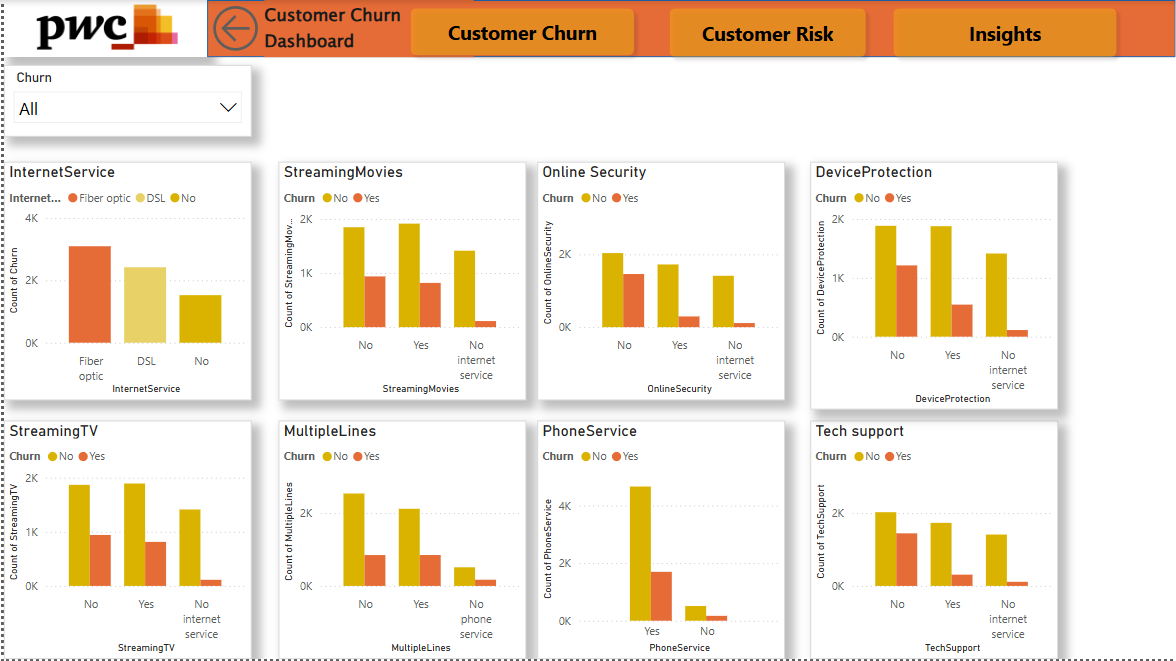

The page's visual inventory and layout, read from the dashboard file:
{"tool":"powerbi","page":{"name":"Services","canvas":[1280,720],"ordinal":3},"visuals":[{"type":"image","box":[0,0,221.9,62.4],"z":0},{"type":"shape","box":[221.9,0,1057.3,62.4],"z":1000},{"type":"actionButton","box":[221.9,0,69.3,62.4],"z":2000},{"type":"shape","box":[284.3,0,228.8,62.4],"z":3000},{"type":"actionButton","box":[435.1,0,261.7,69.3],"z":4000},{"type":"actionButton","box":[717.6,0,232.3,71.1],"z":5000},{"type":"actionButton","box":[962,0,261.7,71.1],"z":6000},{"type":"slicer","fields":{"Values":["01 Churn-Dataset.Churn"]},"box":[0,71.1,270.4,78],"z":7000},{"type":"columnChart","title":"InternetService","fields":{"Category":["01 Churn-Dataset.InternetService"],"Series":["01 Churn-Dataset.InternetService"],"Y":["CountNonNull(01 Churn-Dataset.Churn)"]},"box":[0,176.8,270.4,260],"z":8000},{"type":"clusteredColumnChart","title":" StreamingTV","fields":{"Category":["01 Churn-Dataset.StreamingTV"],"Y":["CountNonNull(01 Churn-Dataset.StreamingTV)"],"Series":["01 Churn-Dataset.Churn"]},"box":[0,459.3,270.4,260],"z":9000},{"type":"clusteredColumnChart","title":"StreamingMovies ","fields":{"Y":["CountNonNull(01 Churn-Dataset.StreamingMovies)"],"Series":["01 Churn-Dataset.Churn"],"Category":["01 Churn-Dataset.StreamingMovies"]},"box":[299.9,176.8,270.4,260],"z":10001},{"type":"clusteredColumnChart","title":"MultipleLines","fields":{"Series":["01 Churn-Dataset.Churn"],"Category":["01 Churn-Dataset.MultipleLines"],"Y":["CountNonNull(01 Churn-Dataset.MultipleLines)"]},"box":[299.9,459.3,270.4,260],"z":10002},{"type":"clusteredColumnChart","title":"PhoneService","fields":{"Series":["01 Churn-Dataset.Churn"],"Category":["01 Churn-Dataset.PhoneService"],"Y":["CountNonNull(01 Churn-Dataset.PhoneService)"]},"box":[582.4,459.3,270.4,260],"z":10003},{"type":"clusteredColumnChart","title":"Tech support","fields":{"Series":["01 Churn-Dataset.Churn"],"Category":["01 Churn-Dataset.TechSupport"],"Y":["CountNonNull(01 Churn-Dataset.TechSupport)"]},"box":[880.5,459.3,270.4,260],"z":10004},{"type":"clusteredColumnChart","title":"Online Security","fields":{"Series":["01 Churn-Dataset.Churn"],"Category":["01 Churn-Dataset.OnlineSecurity"],"Y":["CountNonNull(01 Churn-Dataset.OnlineSecurity)"]},"box":[582.4,176.8,270.4,260],"z":10005},{"type":"clusteredColumnChart","title":"DeviceProtection","fields":{"Series":["01 Churn-Dataset.Churn"],"Category":["01 Churn-Dataset.DeviceProtection"],"Y":["CountNonNull(01 Churn-Dataset.DeviceProtection)"]},"box":[880.5,176.8,270.4,270.4],"z":10006}]}

Visuals, with their boxes in screenshot pixels (x1, y1, x2, y2), scaled from the page's 1280x720 canvas onto the 1176x661 screenshot:
image: select_region(0, 0, 204, 57)
shape: select_region(204, 0, 1175, 57)
actionButton: select_region(204, 0, 268, 57)
shape: select_region(261, 0, 471, 57)
actionButton: select_region(400, 0, 640, 64)
actionButton: select_region(659, 0, 873, 65)
actionButton: select_region(884, 0, 1124, 65)
slicer - 01 Churn-Dataset.Churn: select_region(0, 65, 248, 137)
"InternetService" columnChart: select_region(0, 162, 248, 401)
" StreamingTV" clusteredColumnChart: select_region(0, 422, 248, 660)
"StreamingMovies " clusteredColumnChart: select_region(276, 162, 524, 401)
"MultipleLines" clusteredColumnChart: select_region(276, 422, 524, 660)
"PhoneService" clusteredColumnChart: select_region(535, 422, 784, 660)
"Tech support" clusteredColumnChart: select_region(809, 422, 1057, 660)
"Online Security" clusteredColumnChart: select_region(535, 162, 784, 401)
"DeviceProtection" clusteredColumnChart: select_region(809, 162, 1057, 411)
